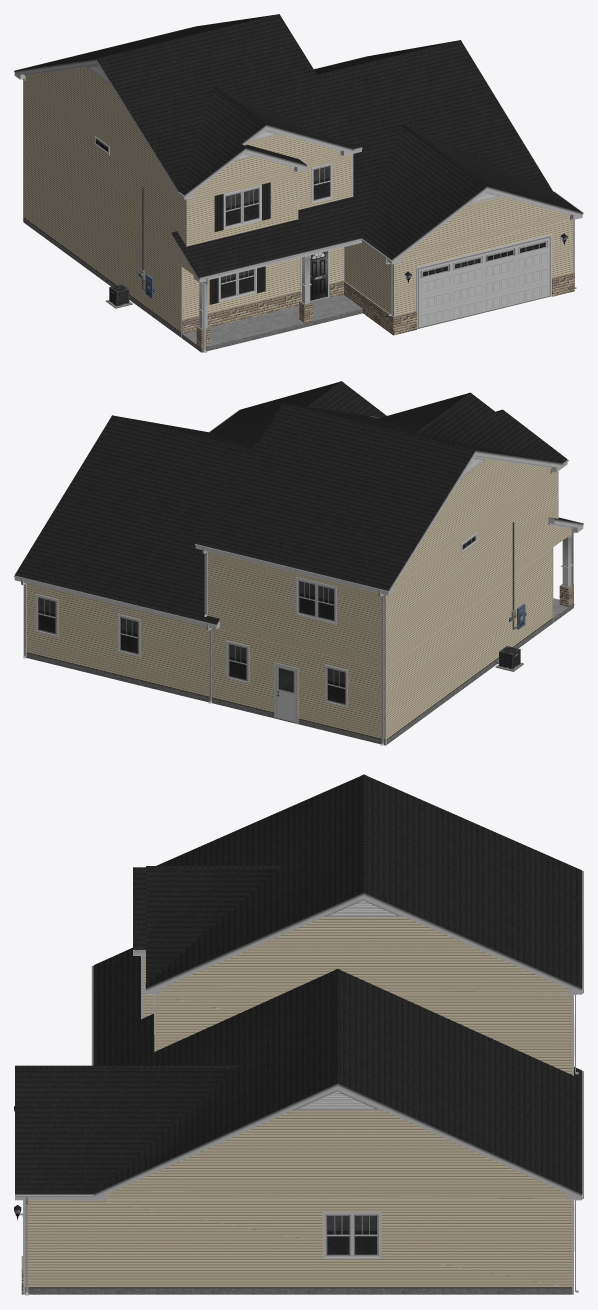
The model's file is house24_mirror2.fbx.
The picture shows the model from 3 angles, top to bottom: view 1: azimuth 30°, elevation 25°; view 2: azimuth 150°, elevation 25°; view 3: azimuth 270°, elevation 25°; orthographic projection. The views are drawn at different scales.
Parts seen in each view (by area): view 1: house24_mirror2_LOD0; view 2: house24_mirror2_LOD0; view 3: house24_mirror2_LOD0.
Boxes of the visible parts, box(x1,y1,x2,y2) form: house24_mirror2_LOD0: box(14, 14, 583, 352); house24_mirror2_LOD0: box(14, 381, 583, 745); house24_mirror2_LOD0: box(14, 774, 583, 1295).
Size of what is drawn, in the model's own units: 4.31 by 2.49 by 4.35.
